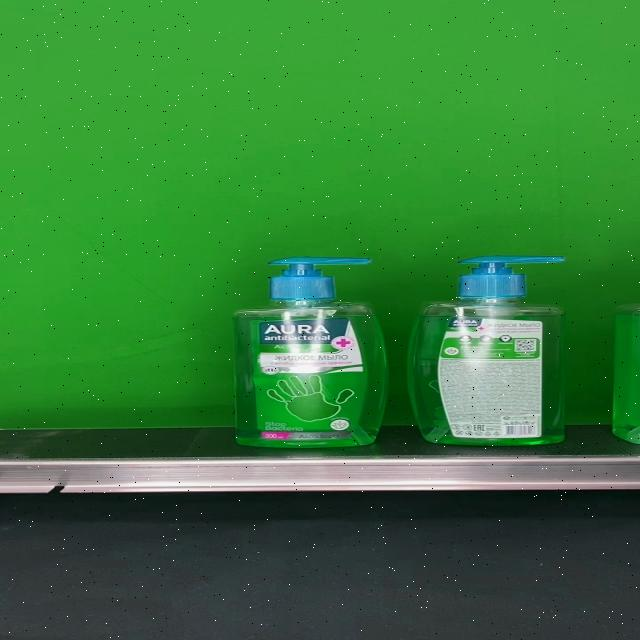Bottle: (406, 256, 566, 446), (230, 257, 388, 448)
Cap: (267, 257, 372, 299), (458, 256, 565, 297)
